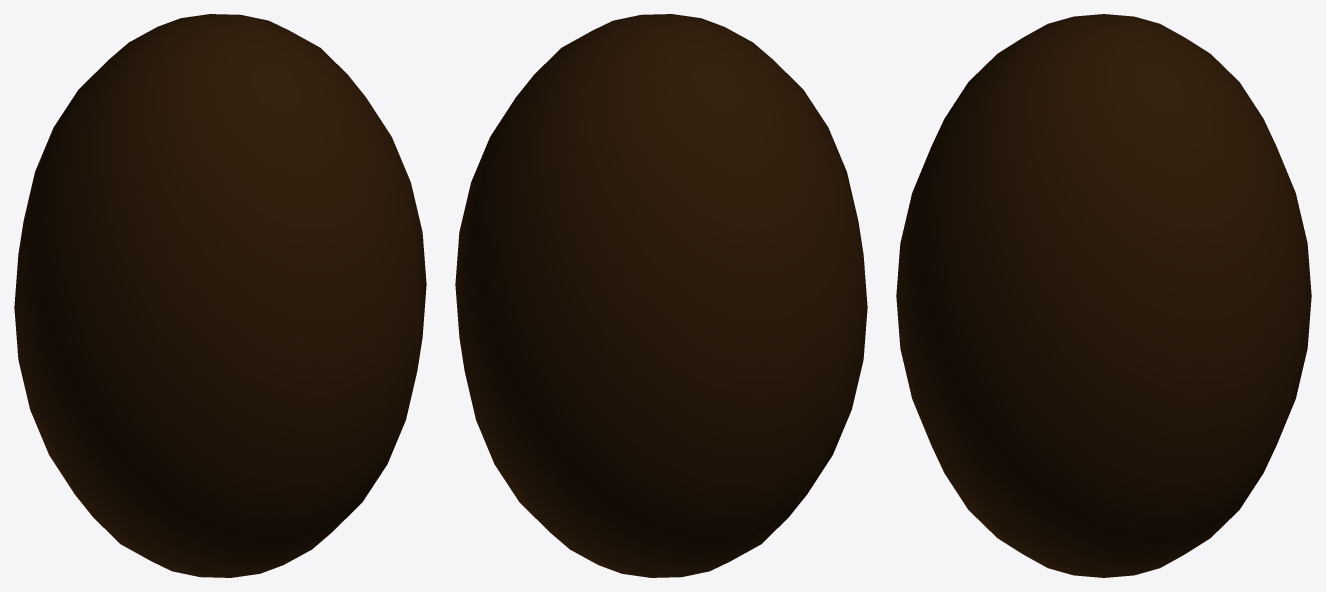
Rendered from PunkleBerrySeed.fbx.
3 renders of one model, left to right at view 1: azimuth 30°, elevation 25°; view 2: azimuth 150°, elevation 25°; view 3: azimuth 270°, elevation 25°, orthographic.
Visible parts, largest first — view 1: PunkleBerrieSeed; view 2: PunkleBerrieSeed; view 3: PunkleBerrieSeed.
Part boxes in pixels (x1,y1,x2,y2): PunkleBerrieSeed: (14, 14, 426, 577); PunkleBerrieSeed: (455, 14, 867, 577); PunkleBerrieSeed: (896, 14, 1311, 577).
Bounding box in the file's own units: 0.042 × 0.06 × 0.042.
